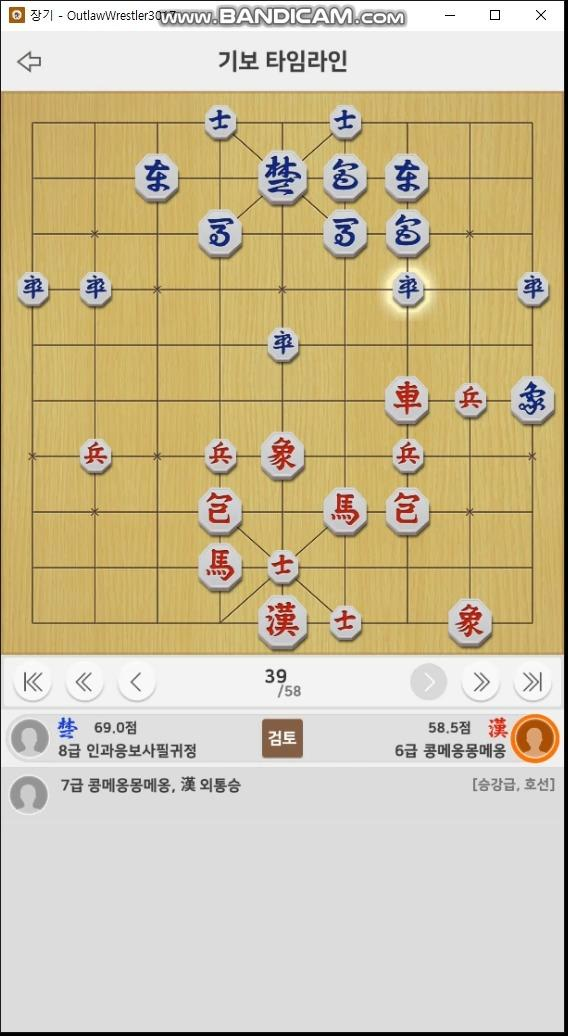cha_green: (385, 152, 430, 201), (134, 155, 181, 199)
cha_red: (387, 379, 427, 424)
jol_green: (390, 270, 426, 307), (17, 272, 51, 309), (77, 271, 114, 305), (267, 327, 302, 362), (515, 271, 549, 306)
jol_red: (82, 438, 112, 473), (394, 437, 424, 472), (457, 383, 486, 419), (206, 438, 235, 473)
ma_green: (321, 209, 368, 256), (196, 211, 245, 254)
ma_red: (197, 544, 242, 591), (325, 489, 365, 535)
po_green: (322, 154, 369, 202), (387, 211, 432, 258)
po_red: (197, 487, 244, 534), (387, 489, 427, 534)
sa_green: (203, 104, 240, 143), (329, 105, 363, 139)
sa_red: (269, 549, 299, 585), (331, 605, 361, 640)
sang_green: (507, 377, 554, 421)
sang_red: (260, 433, 305, 477), (449, 600, 491, 643)
wang_green: (258, 151, 308, 204)
wang_red: (256, 599, 308, 645)
